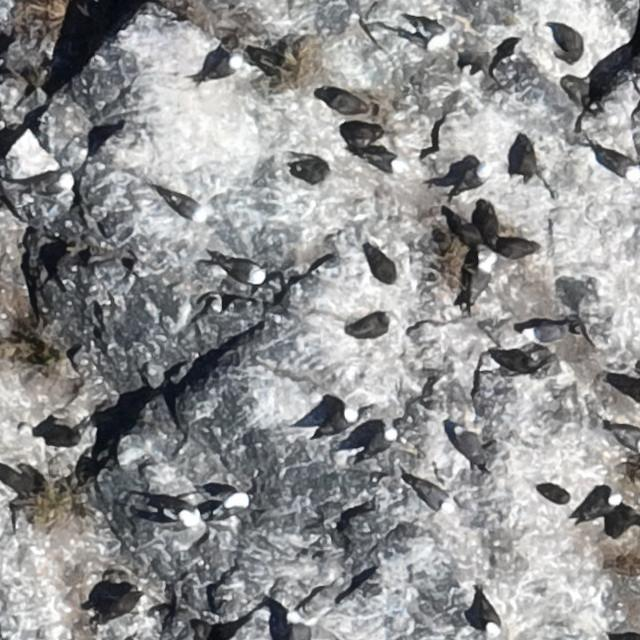umineko: (152, 489, 206, 531), (580, 487, 624, 530), (409, 478, 456, 514), (594, 150, 640, 185), (216, 492, 258, 528), (454, 162, 493, 198), (29, 170, 75, 198), (475, 255, 499, 307), (216, 259, 263, 283), (396, 33, 441, 55), (348, 316, 391, 337), (317, 410, 357, 432), (170, 195, 204, 220), (360, 150, 400, 171), (361, 429, 395, 451), (526, 325, 566, 343), (612, 428, 640, 450), (409, 18, 441, 37), (210, 57, 240, 77), (481, 602, 498, 635), (290, 615, 308, 639)
